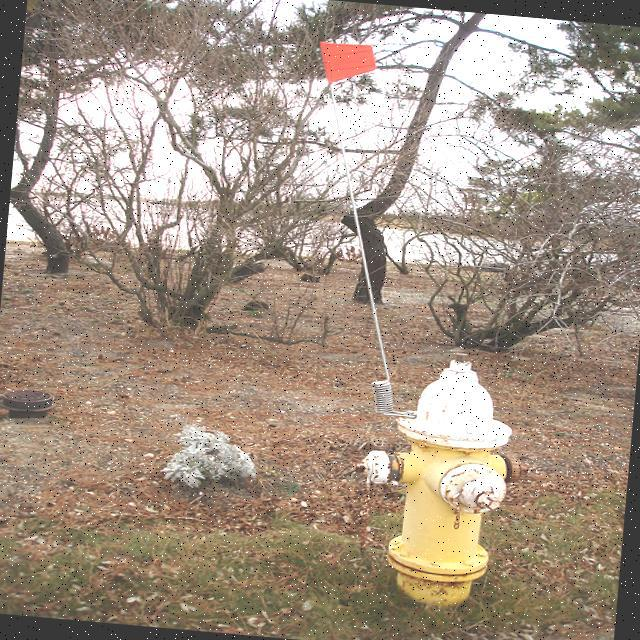fire_hydrant: (335, 348, 518, 608)
